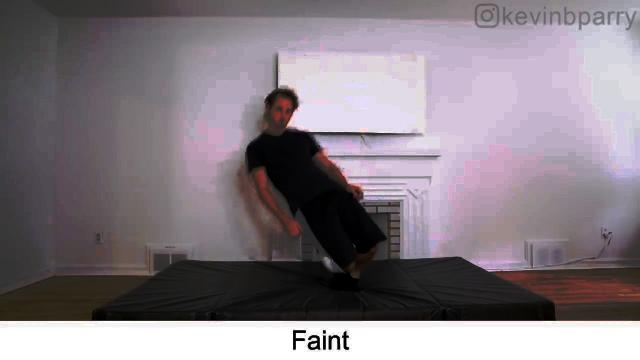jatuh: (240, 86, 394, 298)
